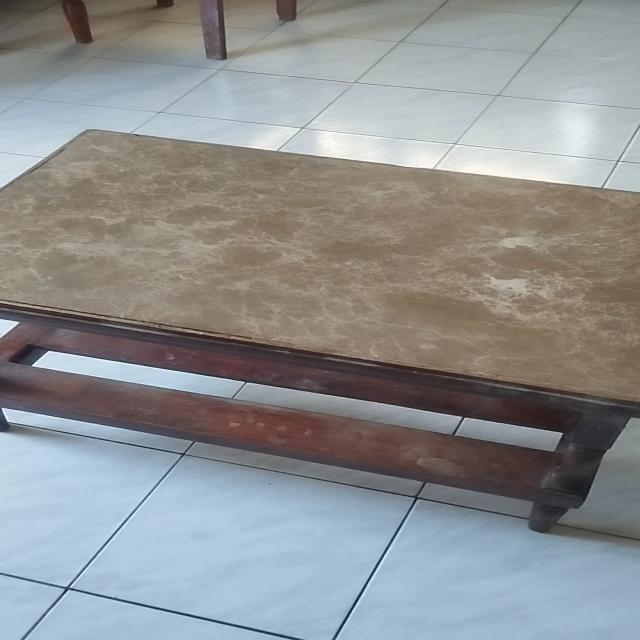table: (0, 121, 640, 538)
